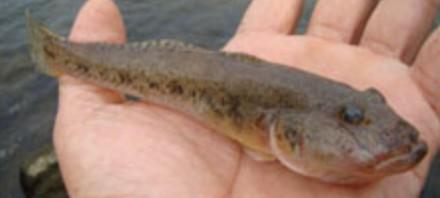fish: (28, 13, 427, 182)
